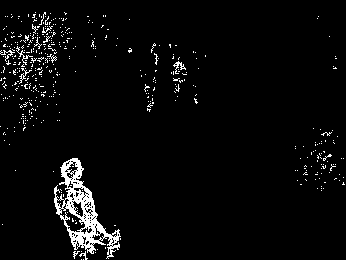person: (52, 158, 125, 260), (170, 57, 185, 105)
